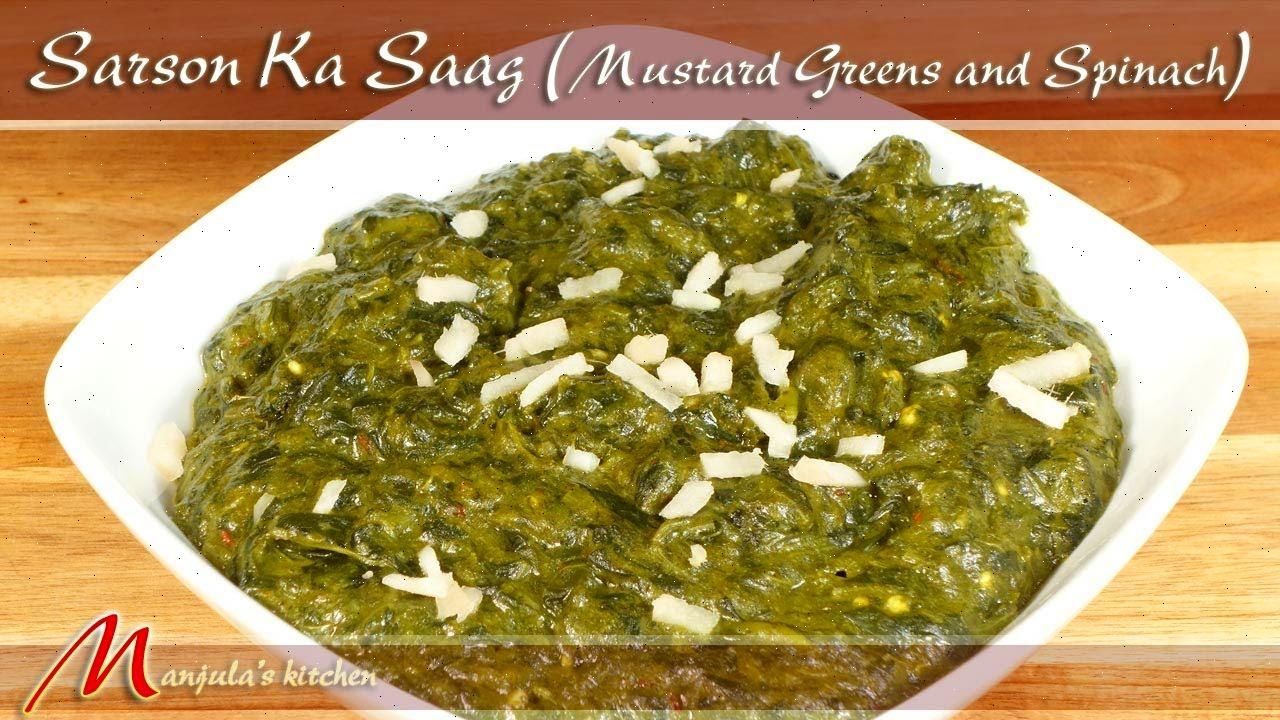saag: (169, 195, 1122, 637)
